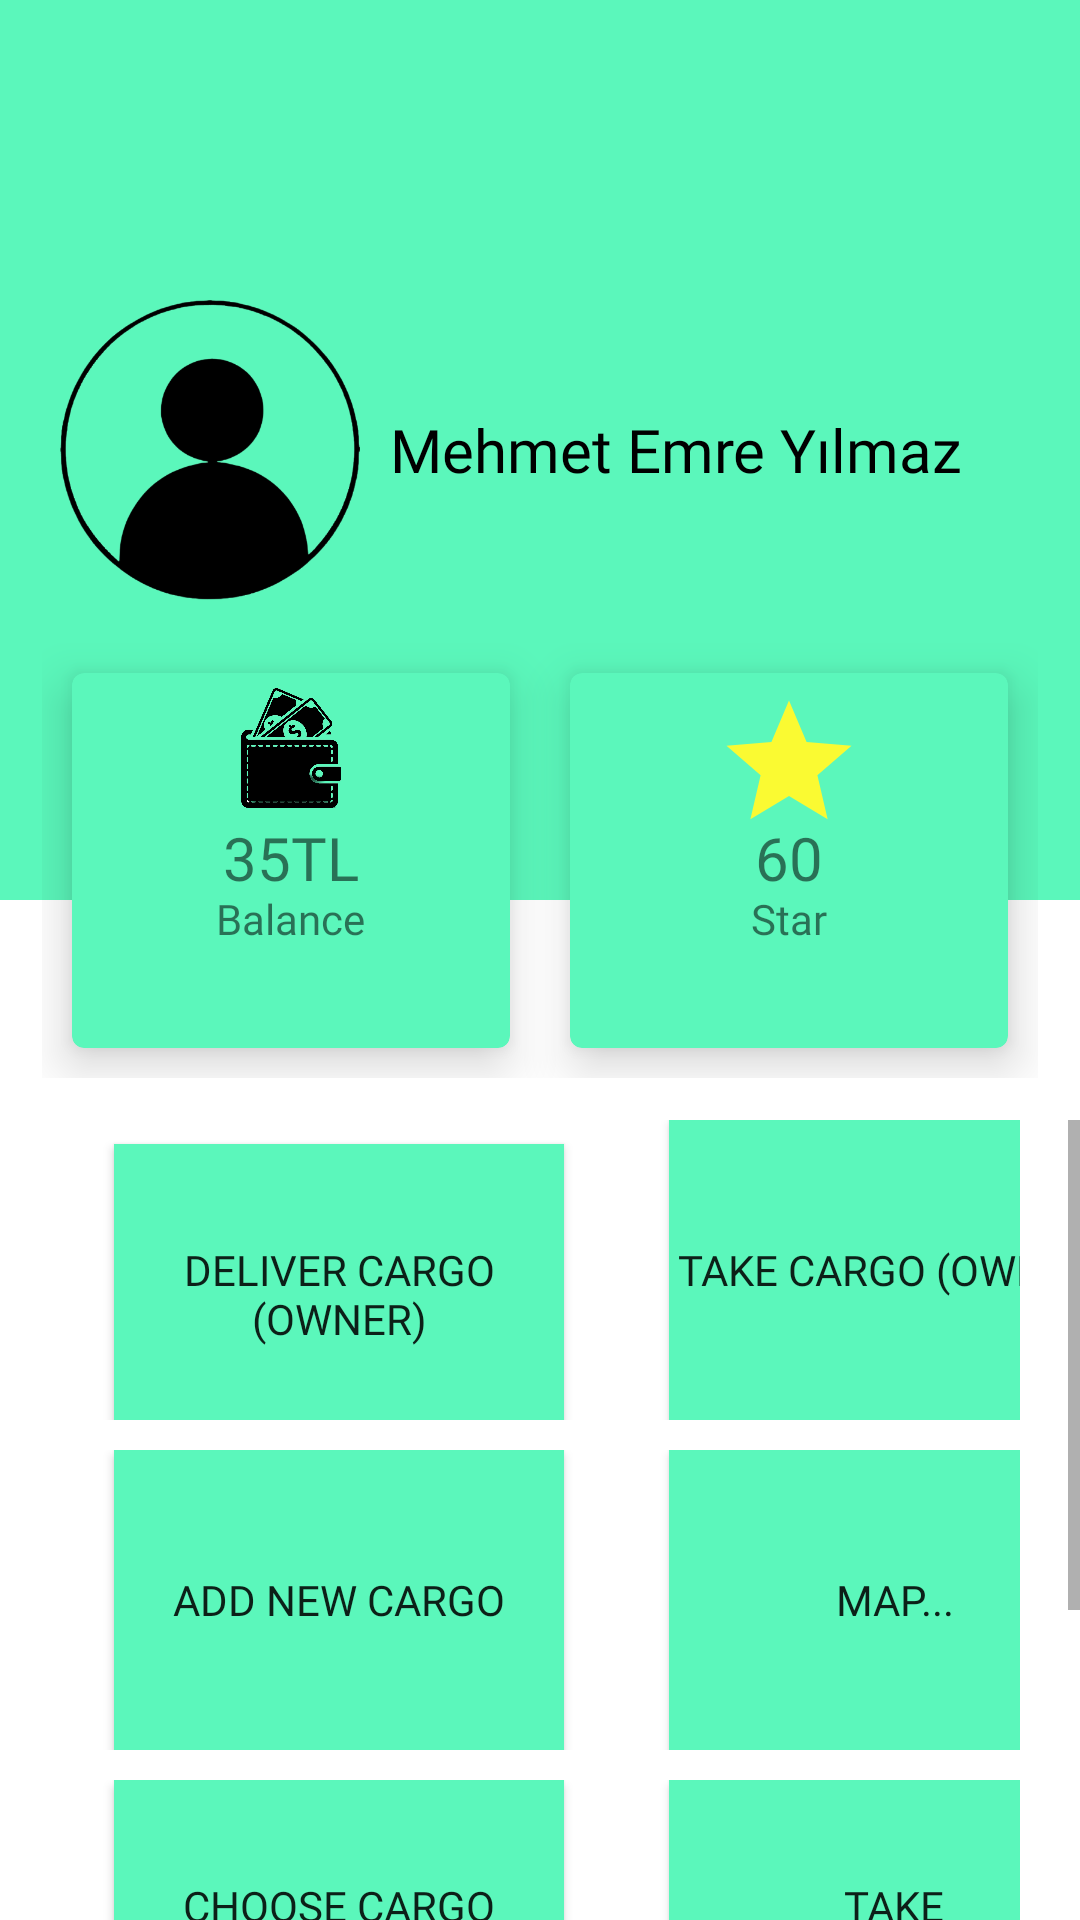

Icons on this 1080*1920 Android screen, each with the point to tap as point (x, y):
profile: point (210, 450)
wallet: point (291, 748)
